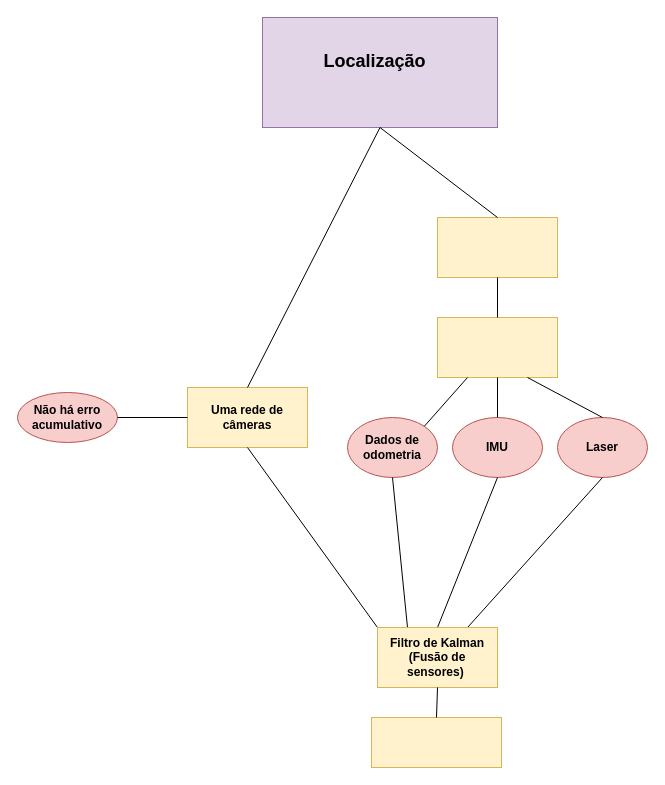
This 665x785 diagram has some shape labels left out. Each missing label, with the centre of its shape:
Localização (x, y): pixel 436 742
Sensores Embarcados no robô: pixel 497 347
Zona mortas: pixel 497 247
